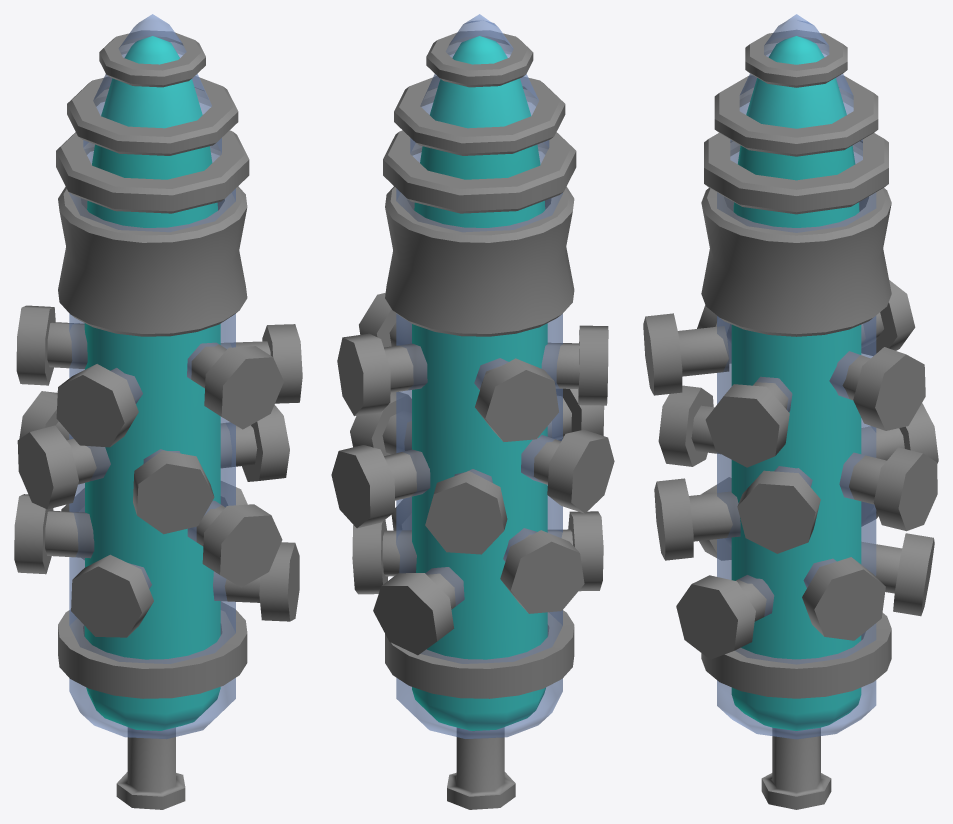
Rendered from nuclear reactor core.fbx.
3 views of the same model, side by side, from view 1: azimuth 30°, elevation 25°; view 2: azimuth 150°, elevation 25°; view 3: azimuth 270°, elevation 25° (orthographic).
Parts seen in each view (by area): view 1: polySurface6; view 2: polySurface6; view 3: polySurface6.
Part boxes in pixels (x1,y1,x2,y2): polySurface6: (14, 14, 302, 809); polySurface6: (331, 14, 614, 809); polySurface6: (643, 14, 938, 809).
Bounding box in the file's own units: 20.2 × 60.08 × 20.61.
